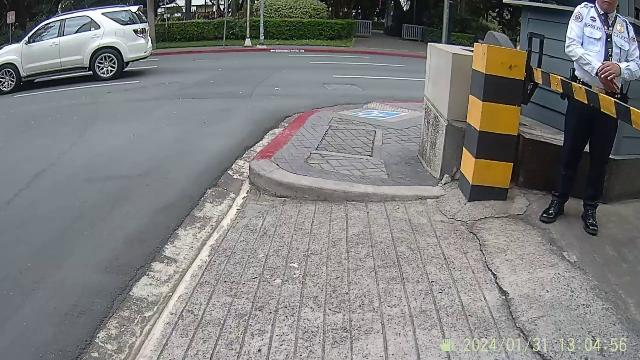car: (0, 2, 154, 88)
